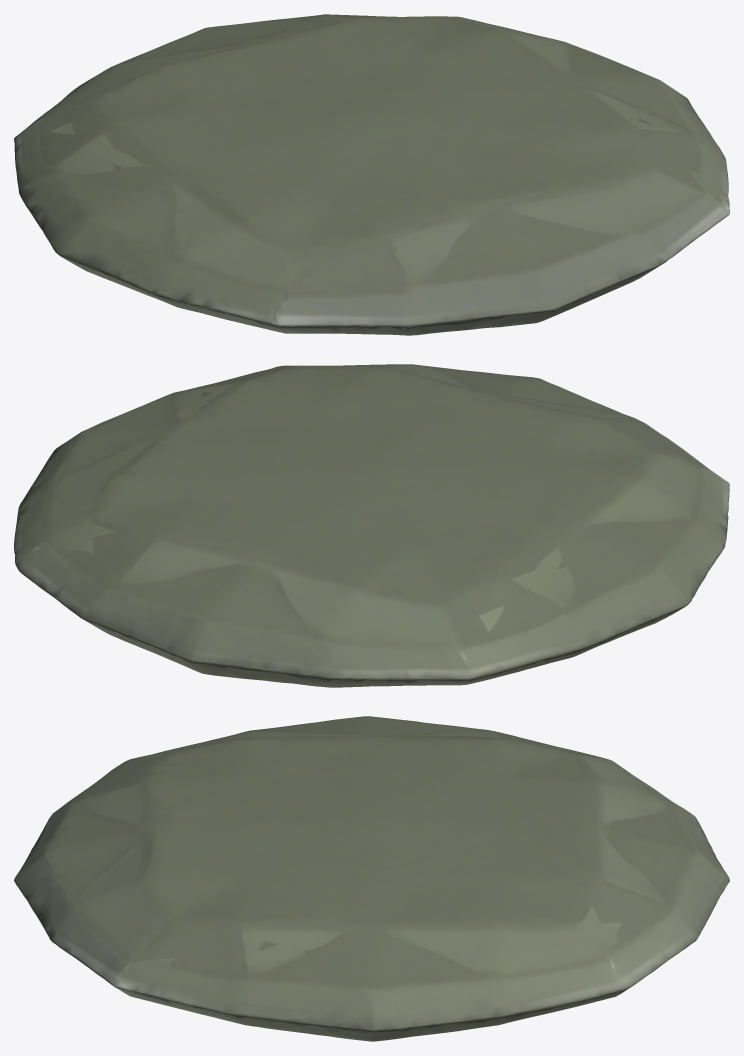
The model's file is Emerald_Facet_0929130125_texture.fbx.
3 views of the same model, one above another, from view 1: azimuth 30°, elevation 25°; view 2: azimuth 150°, elevation 25°; view 3: azimuth 270°, elevation 25° (orthographic).
Parts seen in each view (by area): view 1: Mesh1.0; view 2: Mesh1.0; view 3: Mesh1.0.
Part boxes in pixels (<box>): Mesh1.0: <box>14,14,729,335</box>; Mesh1.0: <box>14,364,729,687</box>; Mesh1.0: <box>14,716,729,1041</box>.
Bounding box in the file's own units: 200 × 35.63 × 200.
1 material, 1 textured.
